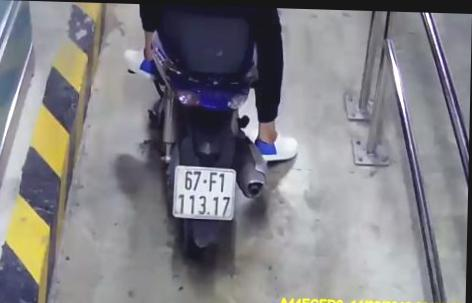License_Plate: (169, 160, 242, 225)
